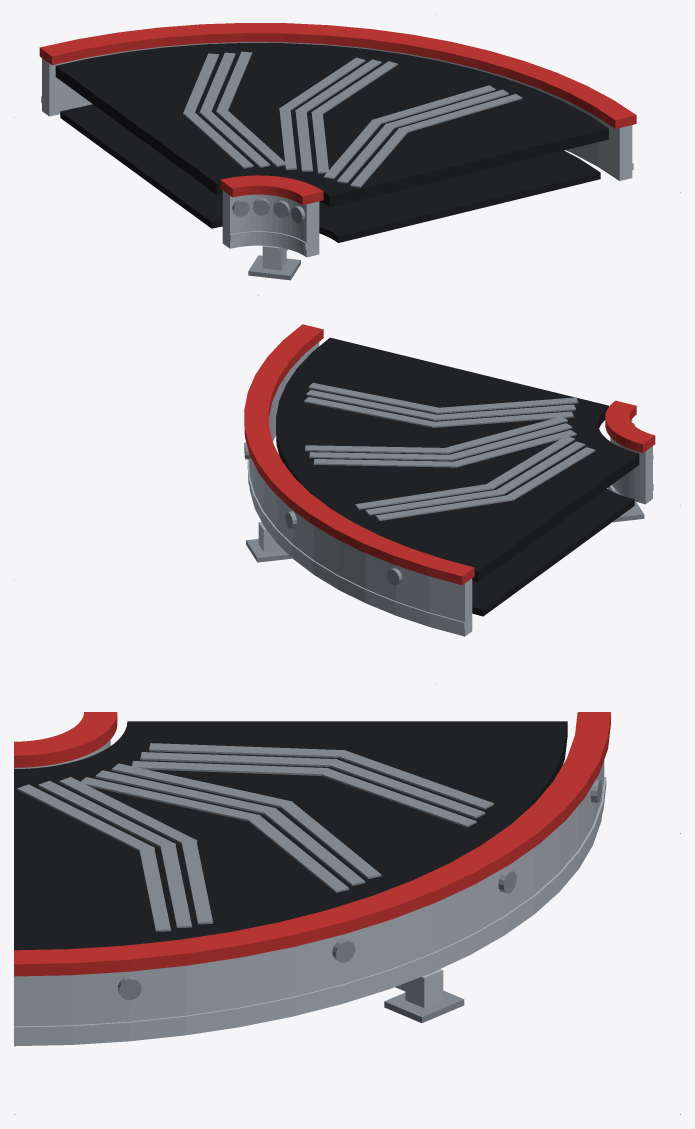
The model's file is convoyeur_virage_inverse_t3.glb.
3 renders of one model, top to bottom at view 1: azimuth 30°, elevation 25°; view 2: azimuth 150°, elevation 25°; view 3: azimuth 270°, elevation 25°, orthographic. The views are drawn at different scales.
Parts seen in each view (by area): view 1: bande_porteuse.024, bande_retour.024, bande_acier.042, rive_1.024, longeron_1.024, longeron_-1.024, rive_-1.024, pieces_acier.048, nervure_-1.012, pieces_gris_clair.016; view 2: bande_porteuse.024, bande_acier.042, longeron_1.024, rive_1.024, bande_retour.024, nervure_1.012, rive_-1.024, longeron_-1.024, pieces_acier.048; view 3: bande_porteuse.024, longeron_1.024, bande_acier.042, rive_1.024, nervure_1.012, rive_-1.024, pieces_acier.048, pieces_gris_clair.016.
Boxes of the visible parts, left/top/right/bottom form: bande_porteuse.024: left=55, top=43, right=608, bottom=207; bande_retour.024: left=60, top=104, right=600, bottom=242; bande_acier.042: left=183, top=51, right=522, bottom=187; rive_1.024: left=39, top=23, right=636, bottom=128; longeron_1.024: left=42, top=42, right=632, bottom=180; longeron_-1.024: left=222, top=190, right=319, bottom=257; rive_-1.024: left=220, top=175, right=323, bottom=205; pieces_acier.048: left=232, top=198, right=305, bottom=280; nervure_-1.012: left=230, top=231, right=307, bottom=249; pieces_gris_clair.016: left=262, top=245, right=287, bottom=270; bande_porteuse.024: left=276, top=337, right=639, bottom=582; bande_acier.042: left=304, top=383, right=595, bottom=520; longeron_1.024: left=249, top=342, right=472, bottom=636; rive_1.024: left=244, top=324, right=474, bottom=585; bande_retour.024: left=472, top=488, right=634, bottom=616; nervure_1.012: left=247, top=459, right=465, bottom=629; rive_-1.024: left=605, top=400, right=655, bottom=452; longeron_-1.024: left=610, top=419, right=652, bottom=504; pieces_acier.048: left=244, top=423, right=653, bottom=585; bande_porteuse.024: left=14, top=721, right=567, bottom=950; longeron_1.024: left=14, top=760, right=604, bottom=1046; bande_acier.042: left=17, top=743, right=493, bottom=931; rive_1.024: left=14, top=712, right=610, bottom=976; nervure_1.012: left=14, top=777, right=606, bottom=1036; rive_-1.024: left=14, top=712, right=117, bottom=767; pieces_acier.048: left=118, top=779, right=601, bottom=1022; pieces_gris_clair.016: left=395, top=969, right=443, bottom=1008.
Bounding box in the file's own units: 1 × 0.2 × 1.
